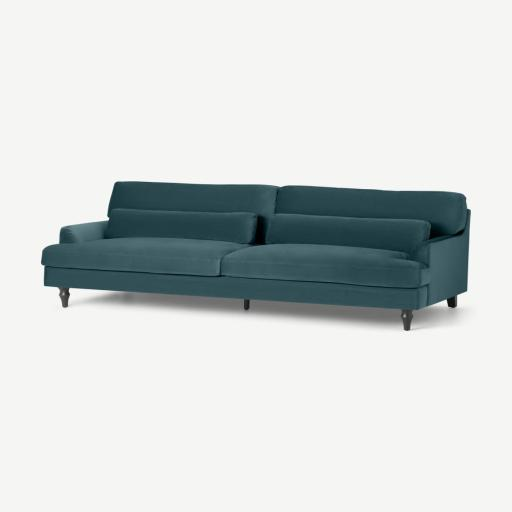back_cushion: (108, 181, 469, 242)
base: (45, 266, 429, 309)
left_arm: (411, 210, 470, 307)
legs: (400, 310, 413, 331), (59, 287, 69, 307), (243, 299, 249, 310), (450, 297, 456, 300)
right_arm: (59, 221, 107, 243)
seat_cushion: (42, 237, 429, 287)
two-seater: (0, 0, 511, 512)
